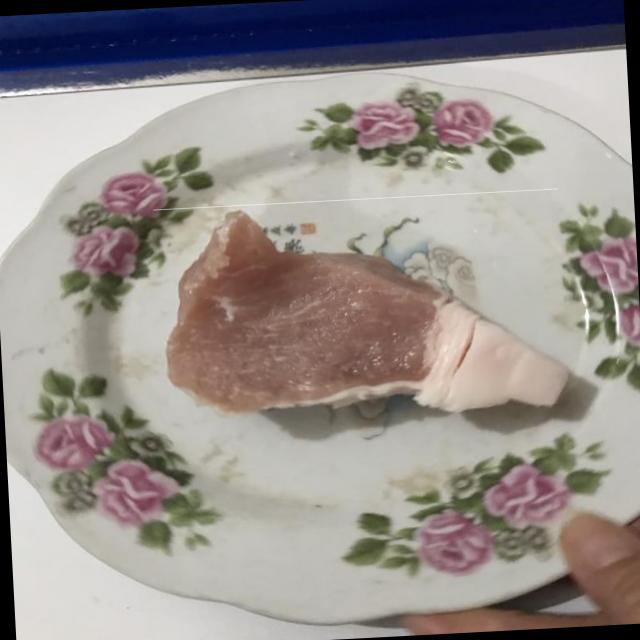chicken: (152, 188, 570, 424)
